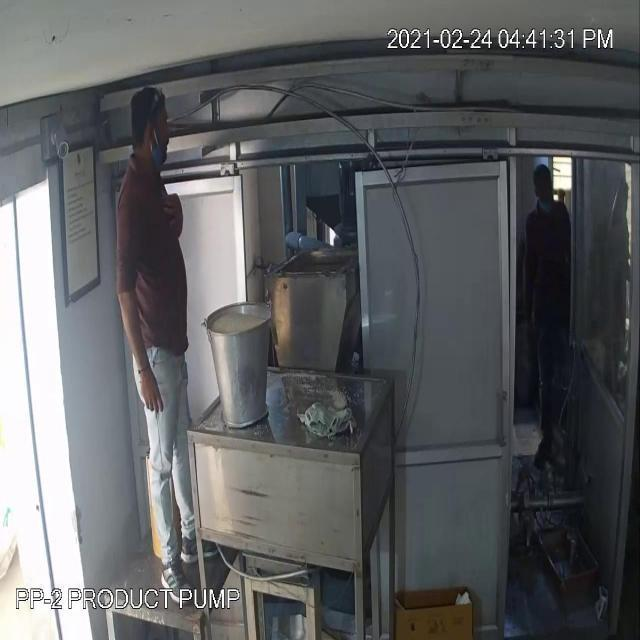no hat: (128, 81, 170, 142)
